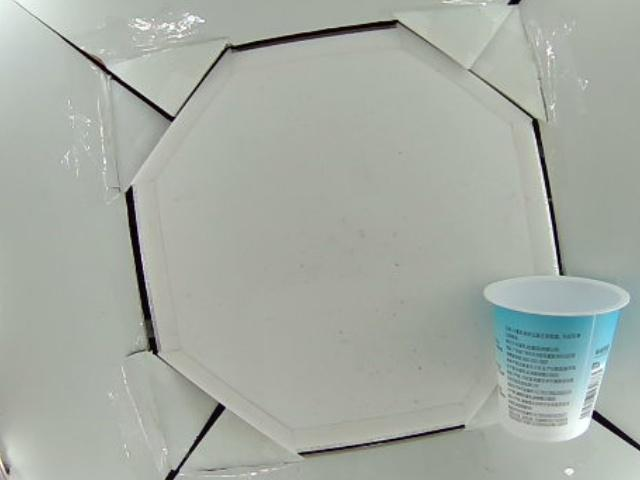Cup: (483, 273, 631, 442)
